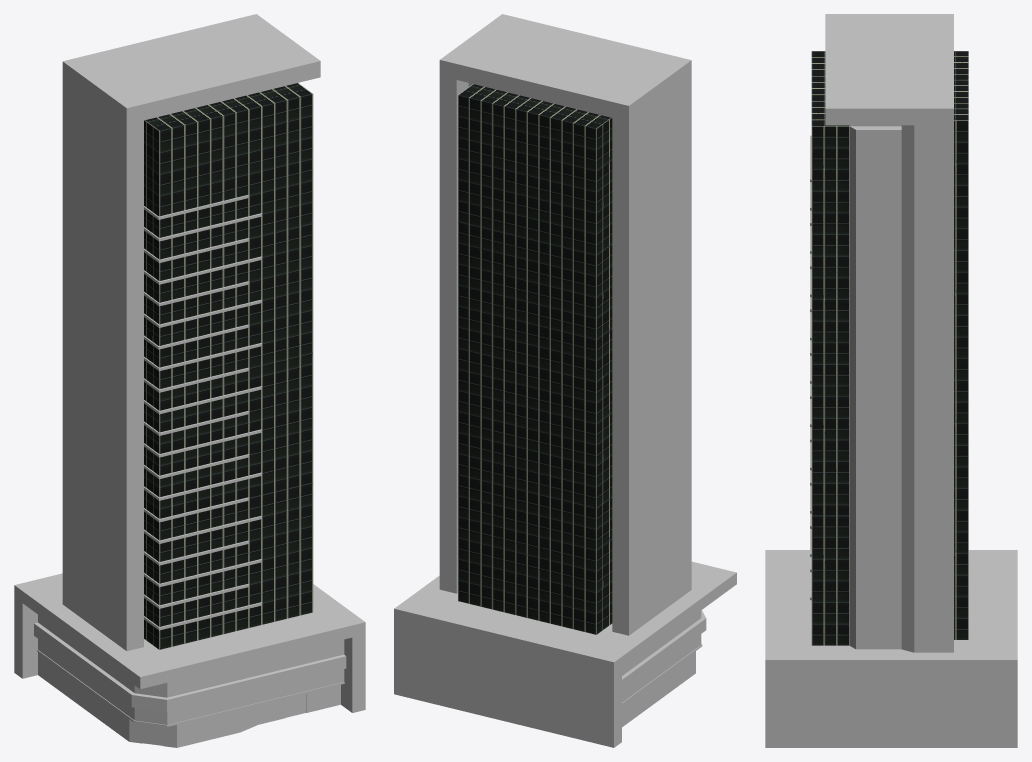
3 renders of one model, left to right at view 1: azimuth 30°, elevation 25°; view 2: azimuth 150°, elevation 25°; view 3: azimuth 270°, elevation 25°, orthographic. The views are drawn at different scales.
Visible parts, largest first — view 1: EC-028; view 2: EC-028; view 3: EC-028.
Boxes of the visible parts, bbox=[...] form: EC-028: bbox=[14, 14, 365, 747]; EC-028: bbox=[394, 14, 736, 747]; EC-028: bbox=[765, 14, 1017, 747].
Size of what is drawn, in the model's own units: 32.75 by 87.57 by 31.66.
